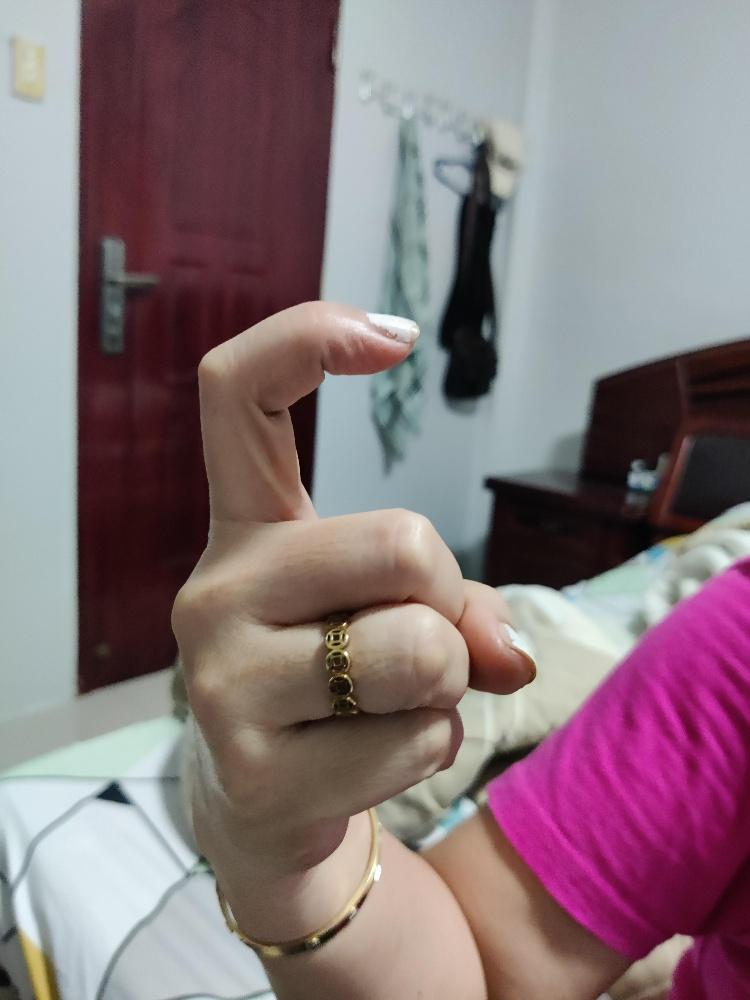x: (166, 295, 541, 875)
